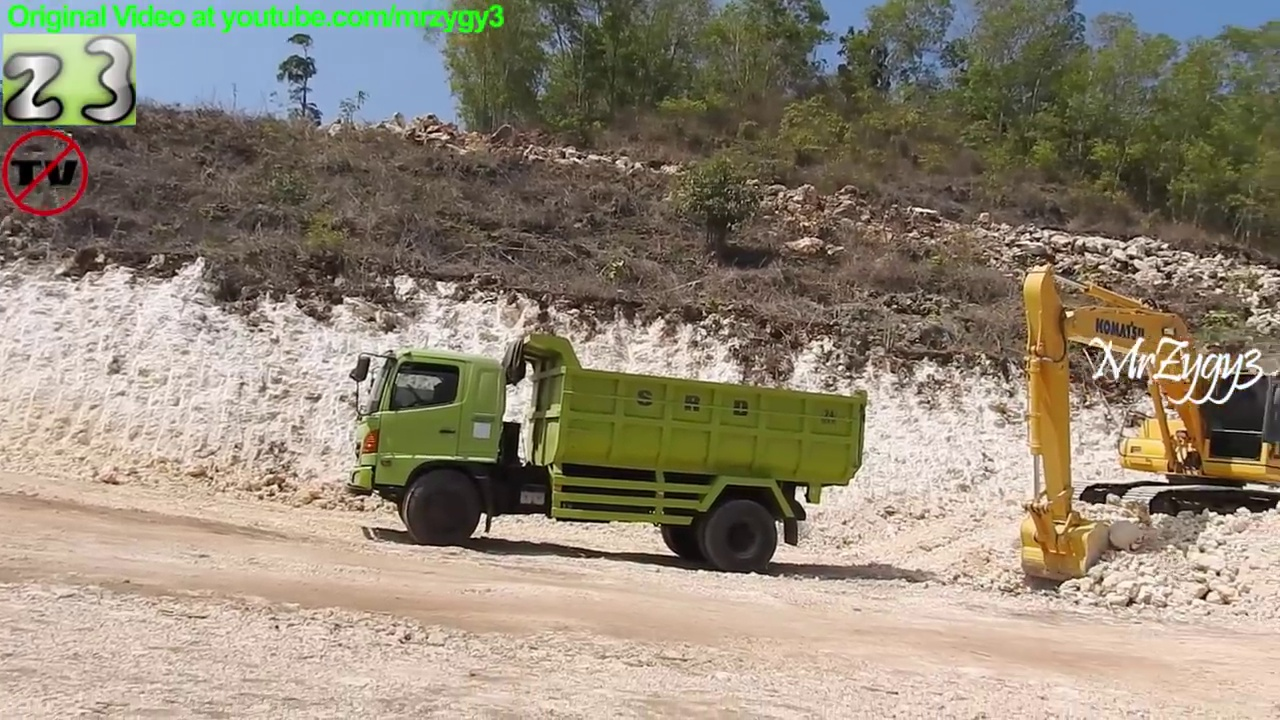excavator: (1009, 257, 1280, 592)
truck: (341, 328, 871, 578)
